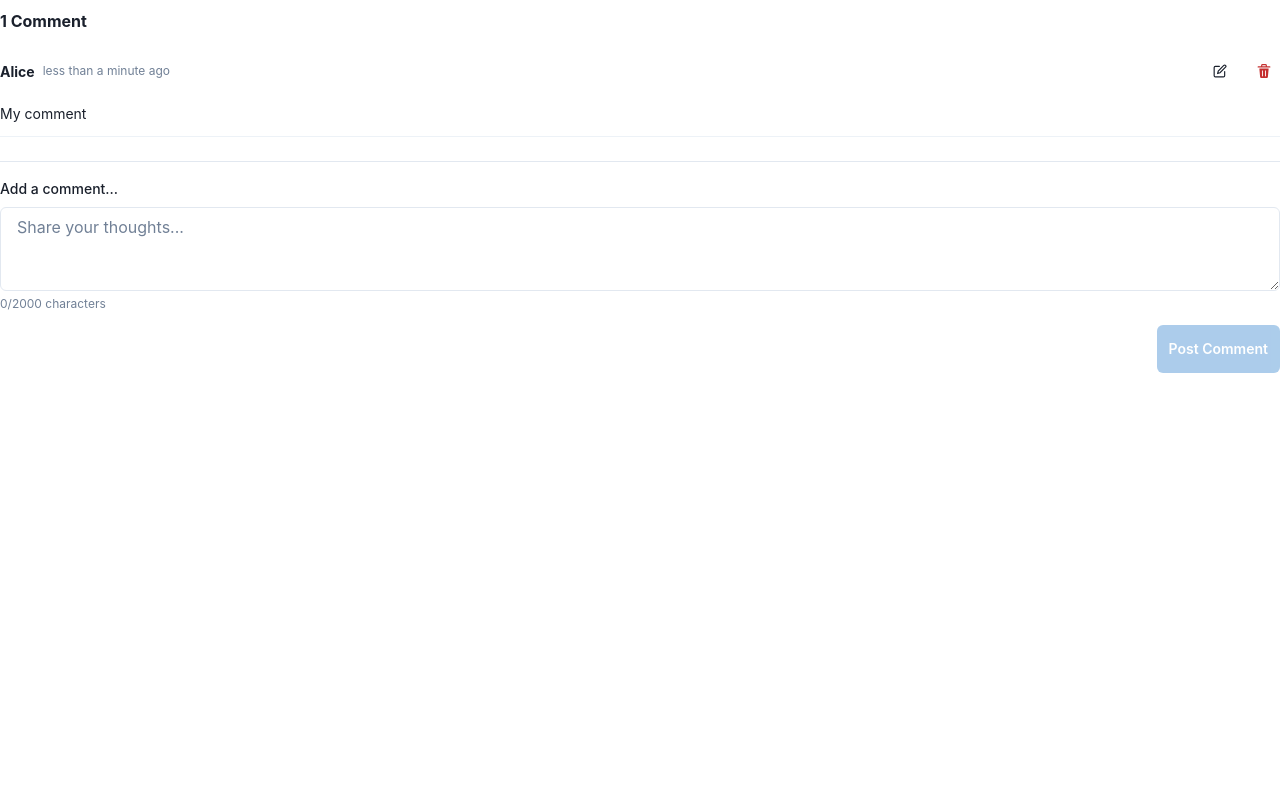
Test case: ItemCommentSection › deletes a comment after confirmation
The width and height of the screenshot is (1280, 800).
Expected: the text "My comment" is shown, x1=0 y1=105 x2=86 y2=122
Click the button named "delete this comment": (1264, 71) x1=1248 y1=47 x2=1279 y2=95
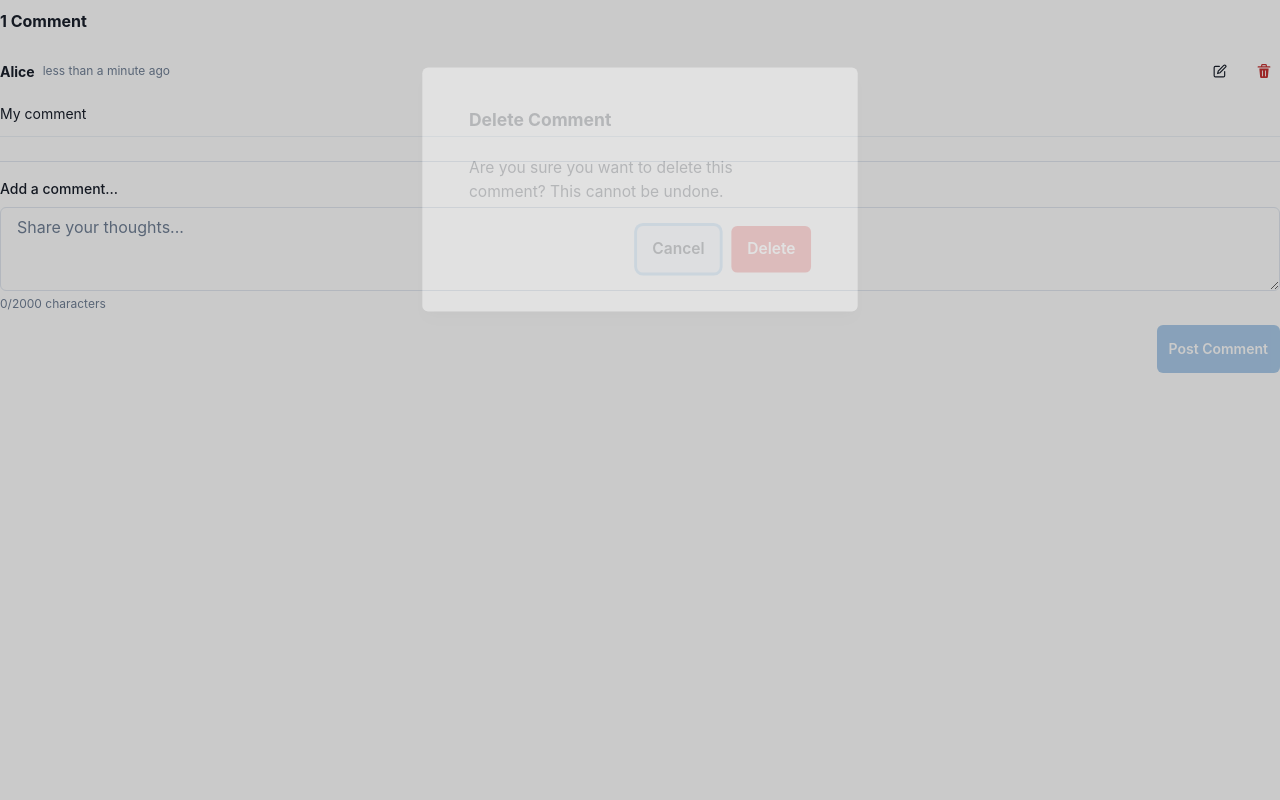
Click the button "Delete": (771, 249) x1=732 y1=226 x2=811 y2=273
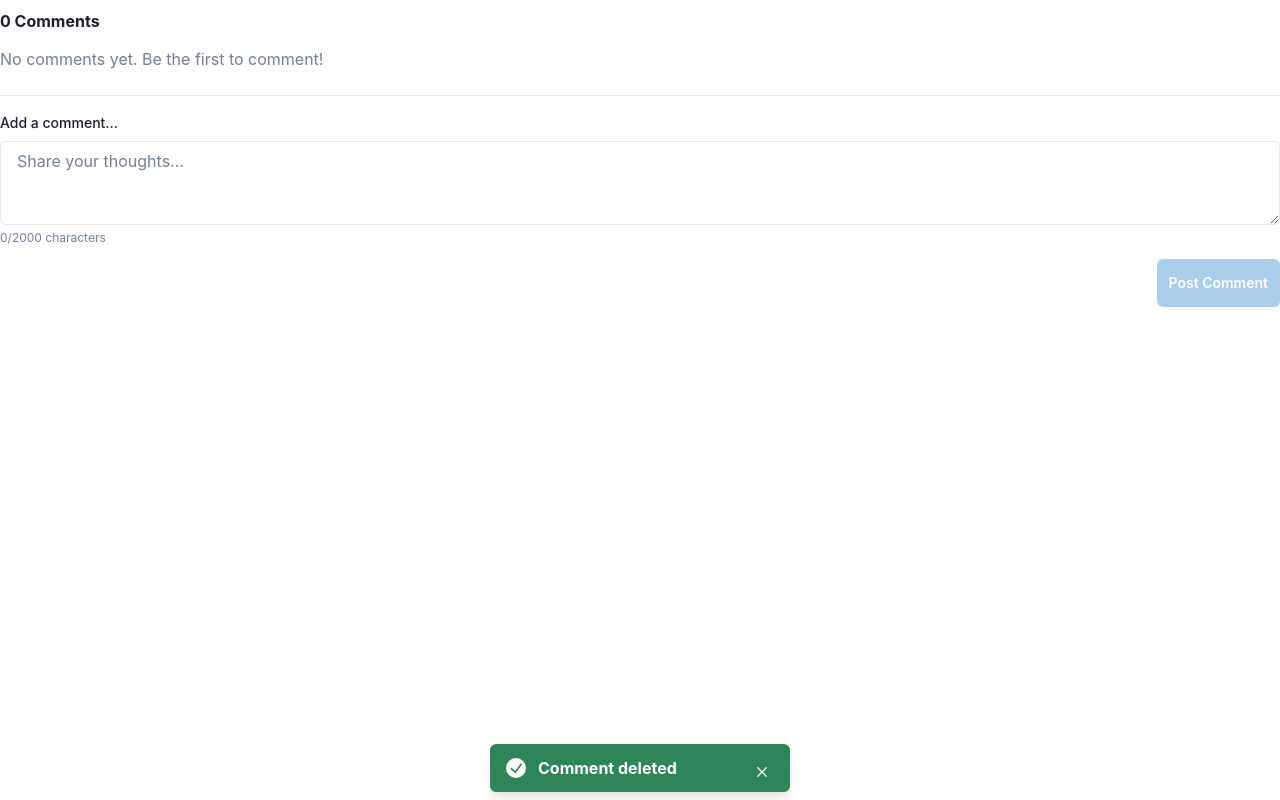
Expected: the text "My comment" is gone
